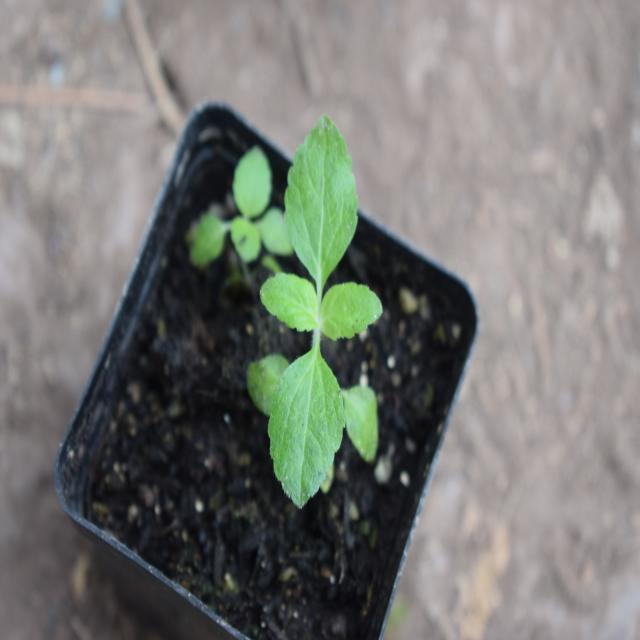billygoat_weed: (250, 108, 383, 509)
